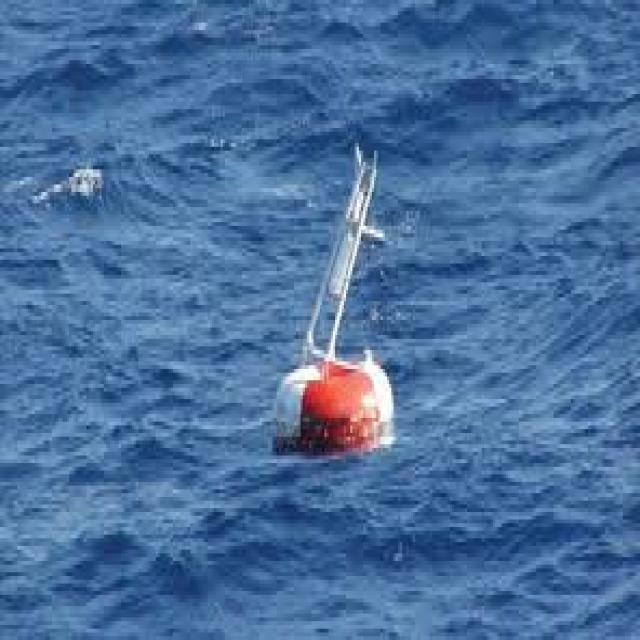marque: (271, 114, 400, 459)
